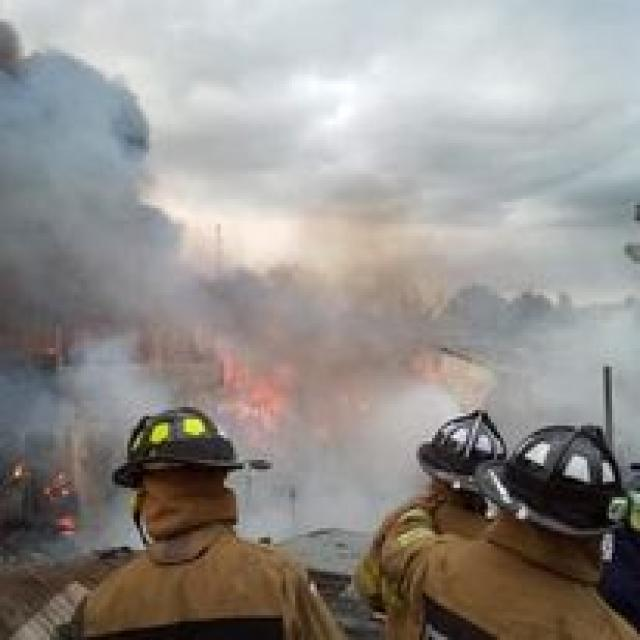Fire: (218, 337, 286, 419)
Smoke: (207, 136, 640, 377), (3, 52, 216, 379), (26, 350, 156, 406)
